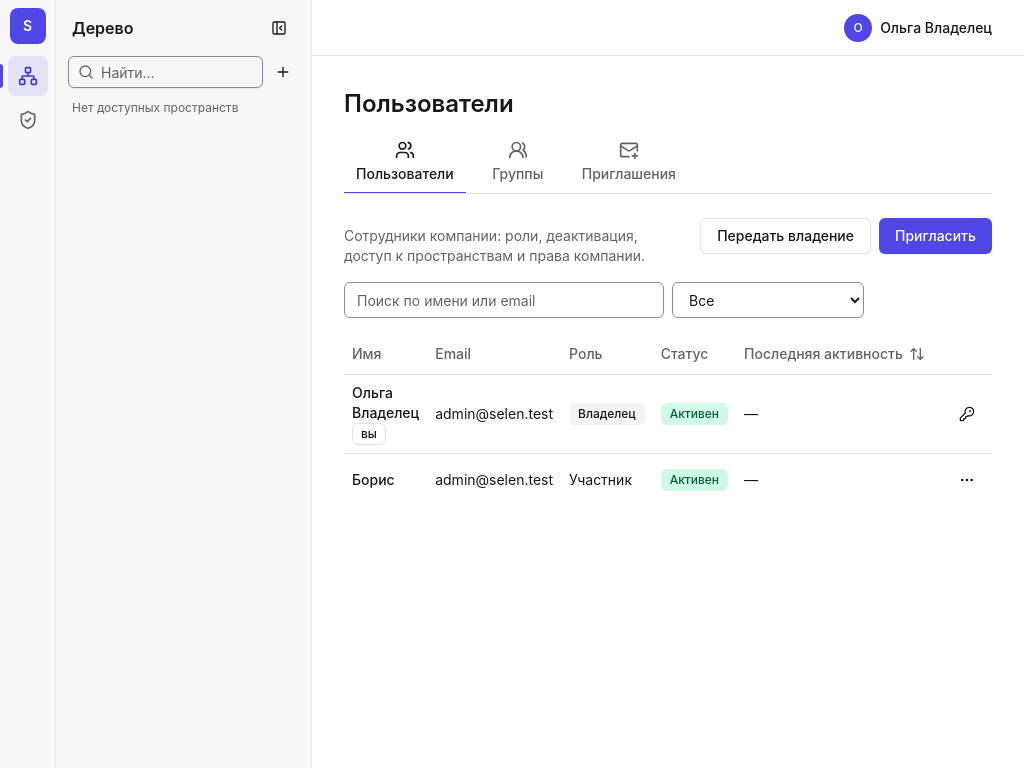
Test: Режим «одна компания» › деактивация и отключение учётной записи — тексты без других компаний
Click the button named "Действия с пользователем «Борис»" at (967, 480), box [949,462,985,498]
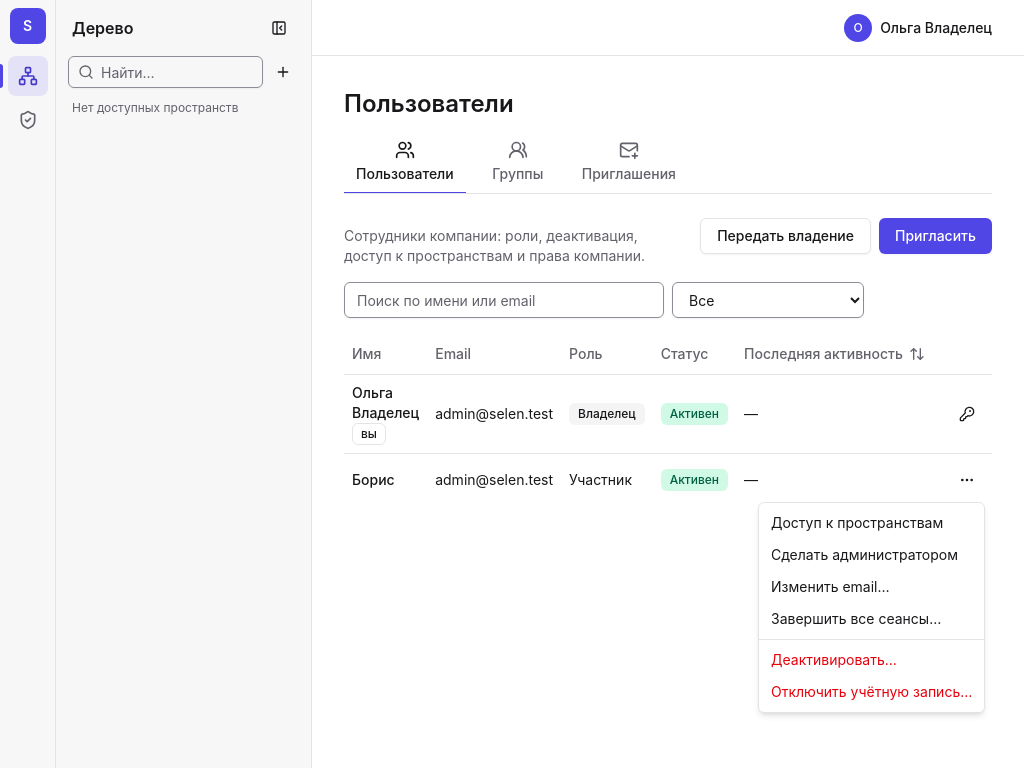
Click the menu item "Деактивировать…" at (834, 660), box [771,651,897,668]
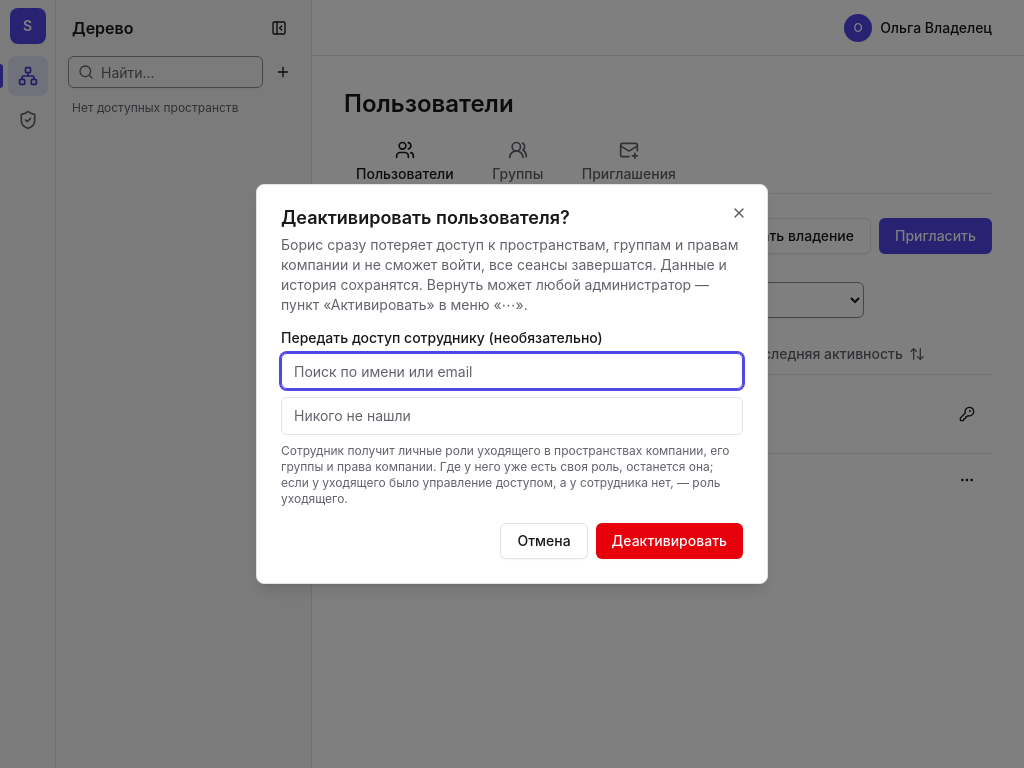
Check: the dialog does not show "других компаний", box [256,184,768,584]
Check: the heading "Деактивировать пользователя?" is shown, box [281,207,570,228]
Click the button "Отмена" at (544, 541), box [500,523,588,559]
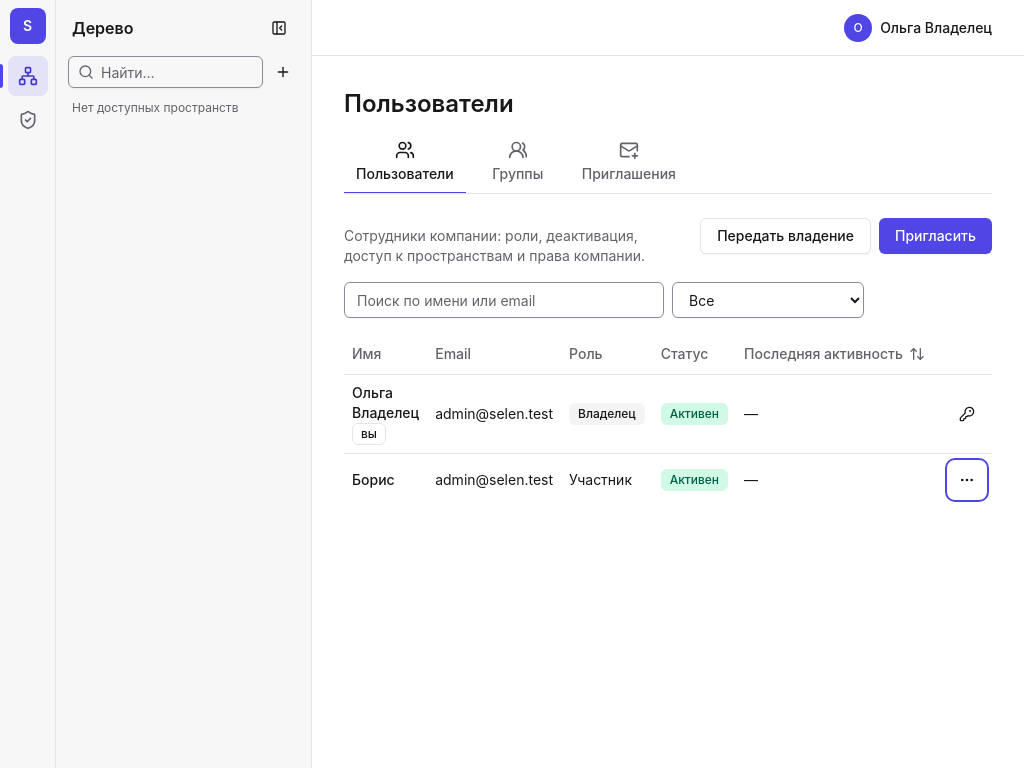
Check: the dialog is gone
Click the button named "Действия с пользователем «Борис»" at (967, 480), box [949,462,985,498]
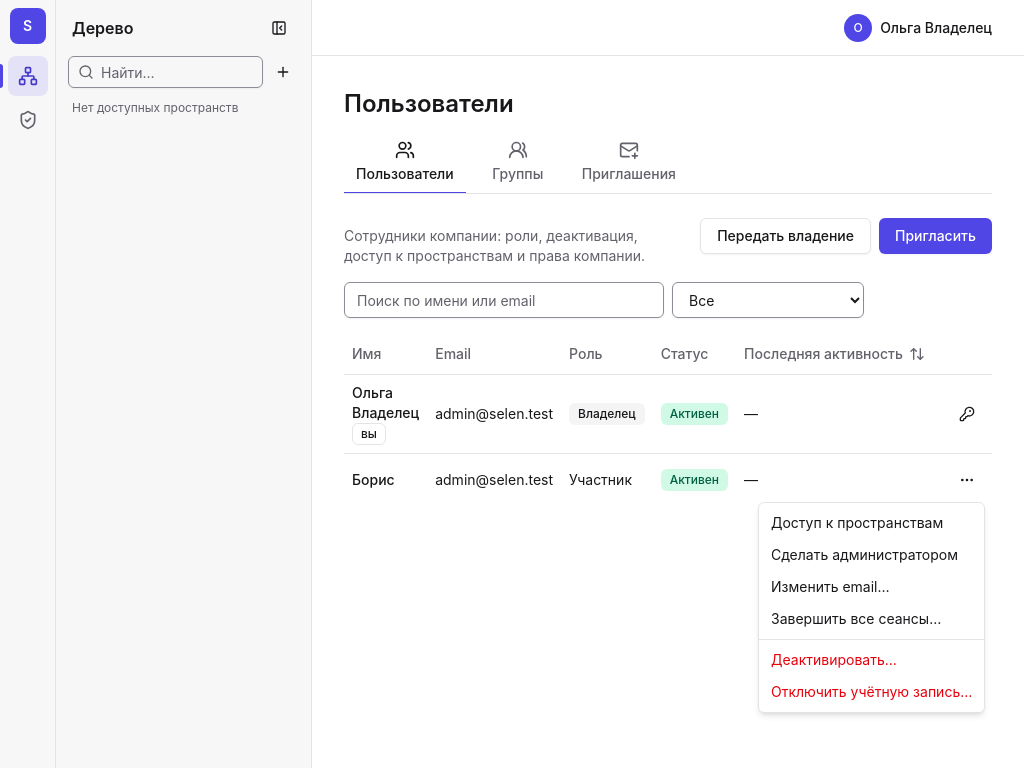
Click the menu item "Отключить учётную запись…" at (872, 692), box [771,683,972,700]
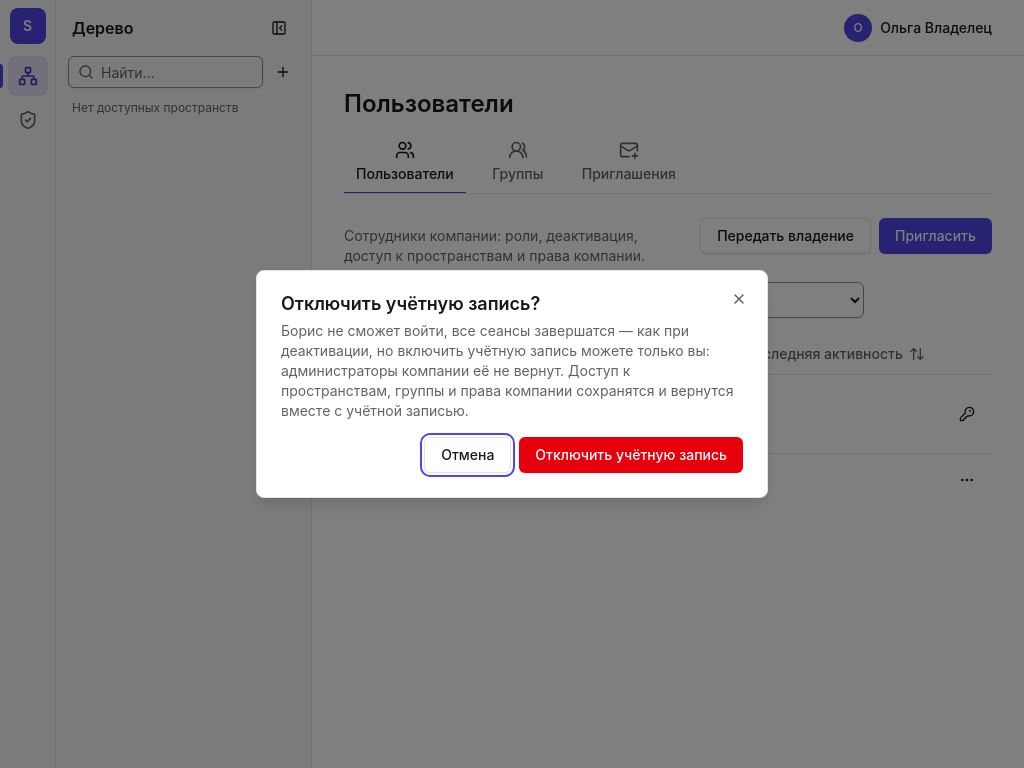
Check: the dialog shows "Борис не сможет войти, все сеансы завершатся — как при деактивации, но включить учётную запись можете только вы", box [281,322,734,419]
